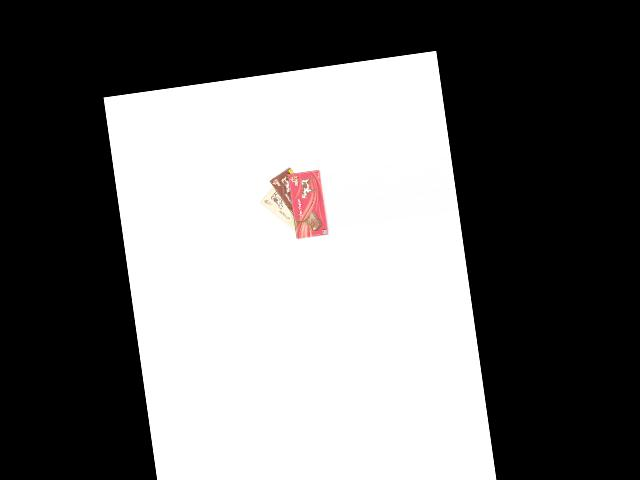chocolate: (256, 176, 302, 241)
